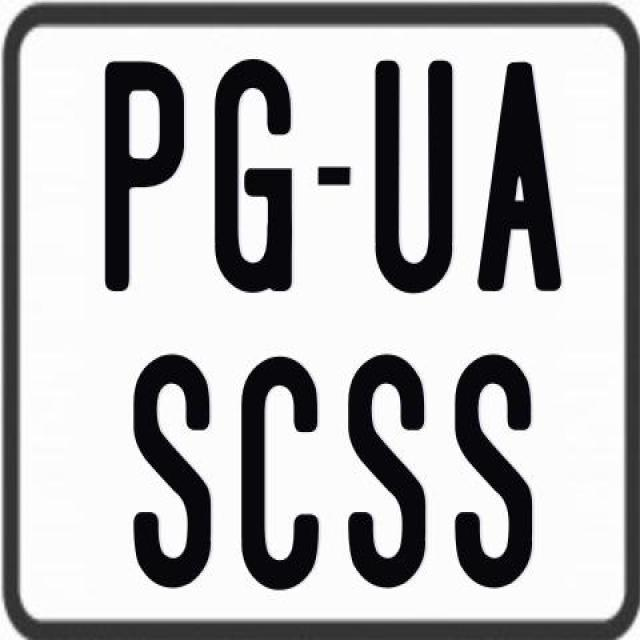A: (478, 59, 562, 298)
C: (237, 357, 319, 590)
G: (210, 57, 294, 300)
P: (101, 58, 187, 296)
S: (346, 349, 430, 592), (132, 352, 215, 592), (450, 350, 530, 588)
U: (370, 60, 454, 302)
